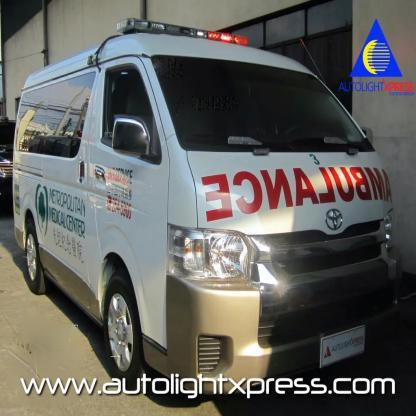Ambulance - v1 Ambulance last generate: (9, 36, 397, 380)
